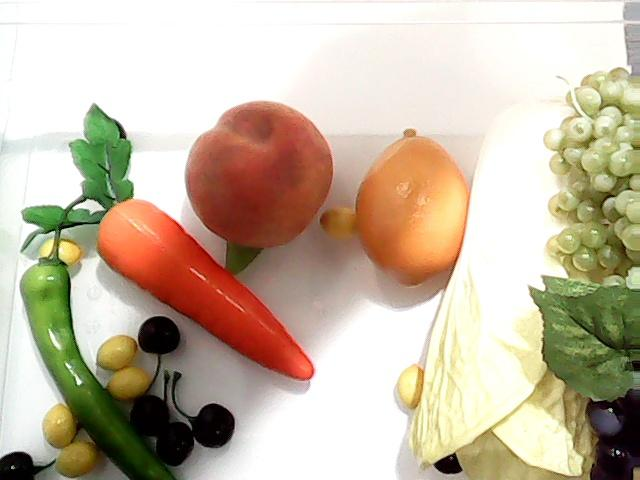carrot: (20, 100, 314, 380)
grape: (526, 268, 640, 480), (542, 62, 640, 286)
lemon: (349, 121, 471, 290)
napa cabbage: (415, 100, 633, 480)
peach: (182, 97, 334, 251)
pepper: (18, 221, 176, 479)
